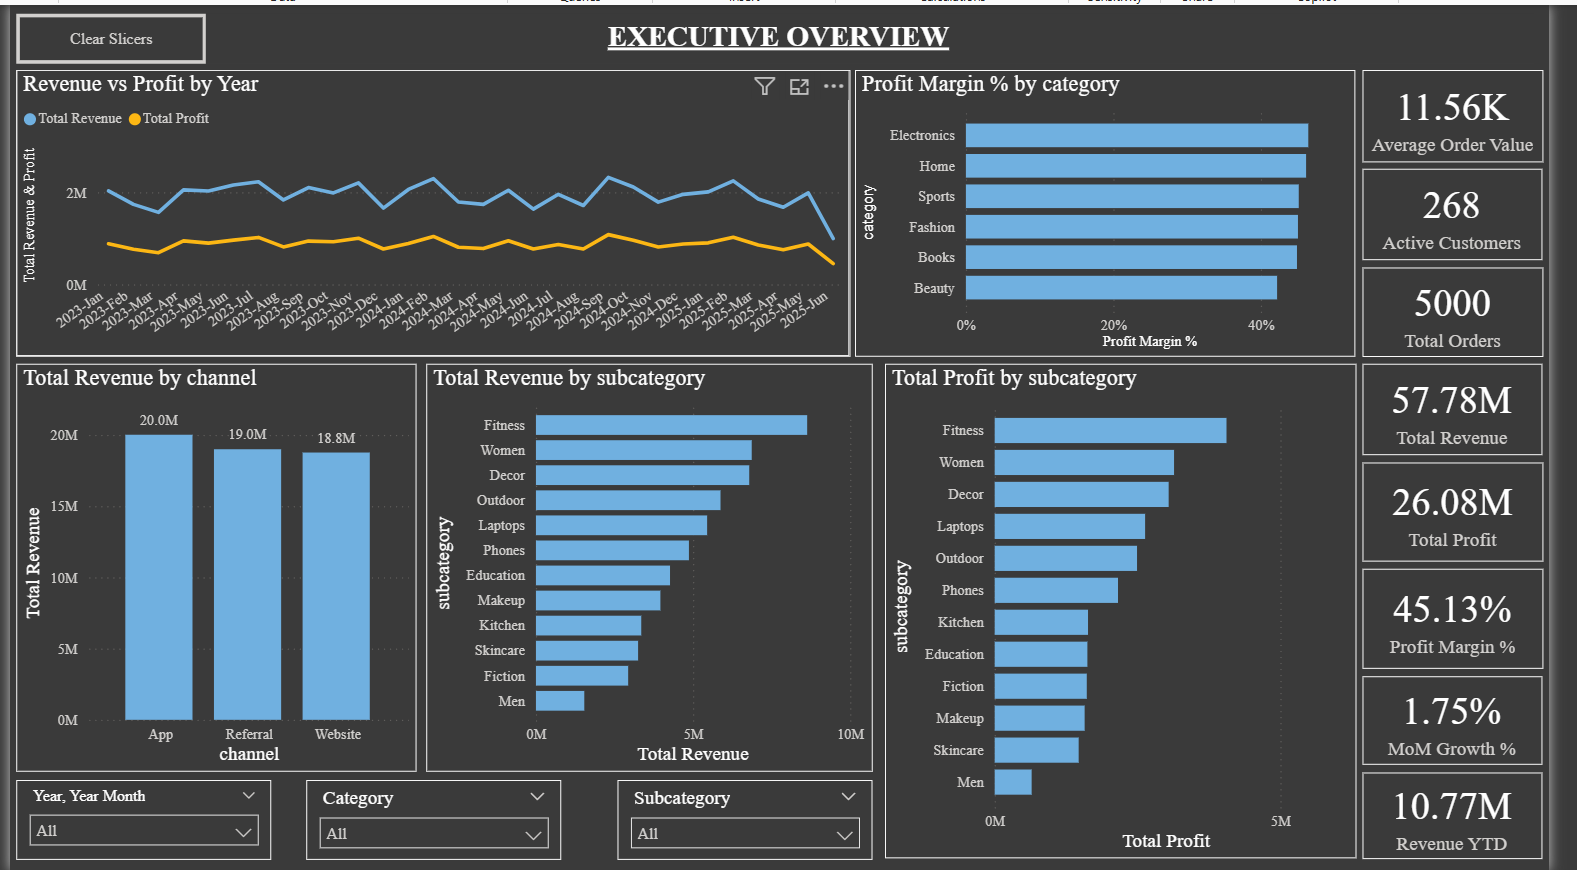

Layout of this report page (visuals, bound fields, positions):
{"tool":"powerbi","page":{"name":"Executive Overview","canvas":[1280,720],"ordinal":0},"visuals":[{"type":"lineChart","title":"Revenue vs Profit by Year","fields":{"Category":["Dim_Date.Year Month"],"Y":["KPI Measures.Total Revenue","KPI Measures.Total Profit"]},"box":[4.9,53.9,694,238.7],"z":0},{"type":"columnChart","fields":{"Category":["orders.channel"],"Y":["KPI Measures.Total Revenue"]},"box":[4.9,298.6,332.9,339],"z":1000},{"type":"barChart","fields":{"Y":["KPI Measures.Total Revenue"],"Category":["products.subcategory"]},"box":[346.4,298.6,370.9,339],"z":2000},{"type":"barChart","fields":{"Y":["KPI Measures.Total Profit"],"Category":["products.subcategory"]},"box":[727,298.6,391.7,411.2],"z":3000},{"type":"textbox","box":[10.5,7,1257,41.9],"z":4000},{"type":"card","fields":{"Values":["KPI Measures.Average Order Value"]},"box":[1124.8,53.9,150.5,77.1],"z":5000},{"type":"card","fields":{"Values":["KPI Measures.Total Revenue"]},"box":[1124.8,298.6,149.3,75.9],"z":6000},{"type":"card","fields":{"Values":["KPI Measures.Active Customers"]},"box":[1124.8,135.9,149.3,75.9],"z":7000},{"type":"card","fields":{"Values":["KPI Measures.Profit Margin %"]},"box":[1124.8,468.8,150.5,83.2],"z":8000},{"type":"card","fields":{"Values":["KPI Measures.Total Profit"]},"box":[1124.8,380.6,150.5,82],"z":9000},{"type":"card","fields":{"Values":["KPI Measures.Total Orders"]},"box":[1124.8,217.9,150.5,74.7],"z":10000},{"type":"actionButton","box":[5.2,7.3,158,41.6],"z":11000},{"type":"slicer","fields":{"Values":["Dim_Date.Year","Dim_Date.Year Month"]},"box":[5,643.9,212.1,66.1],"z":12000},{"type":"slicer","fields":{"Values":["products.category"]},"box":[245.8,643.9,212.1,66.1],"z":13000},{"type":"clusteredBarChart","fields":{"Category":["products.category"],"Y":["KPI Measures.Profit Margin %"]},"box":[702.5,53.9,416.1,238.7],"z":14000},{"type":"card","fields":{"Values":["KPI Measures.MoM Growth %"]},"box":[1124.8,558.1,149.3,73.4],"z":15000},{"type":"card","fields":{"Values":["KPI Measures.Revenue YTD"]},"box":[1124.8,637.7,149.3,72.2],"z":16000},{"type":"slicer","fields":{"Values":["products.subcategory"]},"box":[505.4,643.9,212.1,66.1],"z":17000}]}

Visuals, with their boxes in screenshot pixels (x1, y1, x2, y2), scaled from the page's 1280x720 canvas onto the 1577x870 screenshot:
"Revenue vs Profit by Year" lineChart: {"x1": 6, "y1": 65, "x2": 861, "y2": 354}
columnChart - orders.channel x KPI Measures.Total Revenue: {"x1": 6, "y1": 361, "x2": 416, "y2": 770}
barChart - KPI Measures.Total Revenue x products.subcategory: {"x1": 427, "y1": 361, "x2": 884, "y2": 770}
barChart - KPI Measures.Total Profit x products.subcategory: {"x1": 896, "y1": 361, "x2": 1378, "y2": 858}
textbox: {"x1": 13, "y1": 8, "x2": 1562, "y2": 59}
card - KPI Measures.Average Order Value: {"x1": 1386, "y1": 65, "x2": 1571, "y2": 158}
card - KPI Measures.Total Revenue: {"x1": 1386, "y1": 361, "x2": 1570, "y2": 453}
card - KPI Measures.Active Customers: {"x1": 1386, "y1": 164, "x2": 1570, "y2": 256}
card - KPI Measures.Profit Margin %: {"x1": 1386, "y1": 566, "x2": 1571, "y2": 667}
card - KPI Measures.Total Profit: {"x1": 1386, "y1": 460, "x2": 1571, "y2": 559}
card - KPI Measures.Total Orders: {"x1": 1386, "y1": 263, "x2": 1571, "y2": 354}
actionButton: {"x1": 6, "y1": 9, "x2": 201, "y2": 59}
slicer - Dim_Date.Year x Dim_Date.Year Month: {"x1": 6, "y1": 778, "x2": 267, "y2": 858}
slicer - products.category: {"x1": 303, "y1": 778, "x2": 564, "y2": 858}
clusteredBarChart - products.category x KPI Measures.Profit Margin %: {"x1": 866, "y1": 65, "x2": 1378, "y2": 354}
card - KPI Measures.MoM Growth %: {"x1": 1386, "y1": 674, "x2": 1570, "y2": 763}
card - KPI Measures.Revenue YTD: {"x1": 1386, "y1": 771, "x2": 1570, "y2": 858}
slicer - products.subcategory: {"x1": 623, "y1": 778, "x2": 884, "y2": 858}
